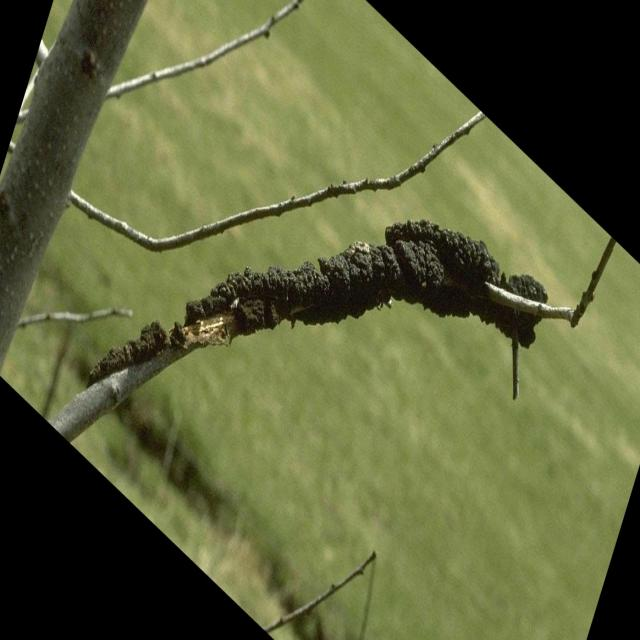Black_knot: (84, 192, 553, 432)
